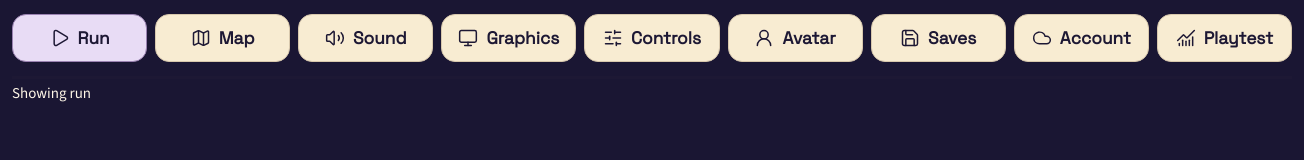
it: menu tabs › switches panel on click and mounts only that panel
The image size is (1304, 160).
Click the tab "Saves": [938, 38] box [871,14,1006,62]
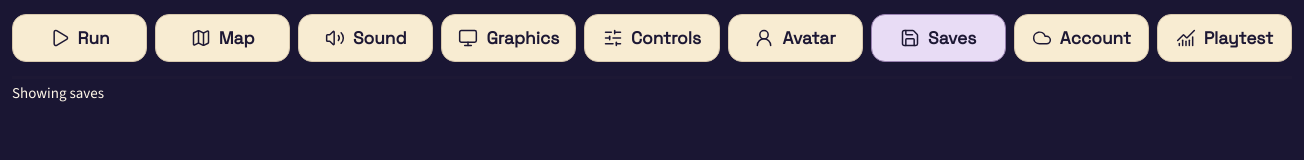
Now the text "Showing saves" is shown, box [12,83,104,103]
Now the text "Showing run" is gone
